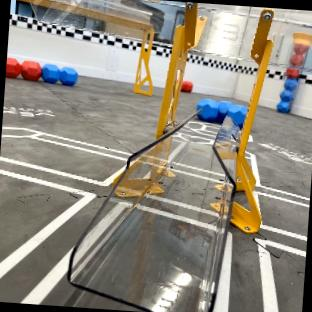V5_BLUE: (197, 98, 246, 126), (42, 64, 78, 85), (277, 78, 296, 112), (197, 98, 218, 120), (229, 104, 246, 124), (60, 67, 78, 85)
V5_RED: (21, 60, 40, 79), (5, 58, 19, 77), (180, 80, 192, 91)
